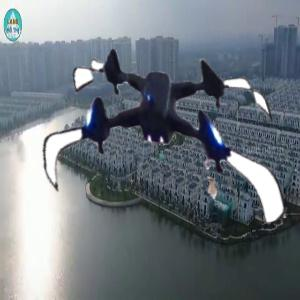drone: (35, 11, 279, 255)
